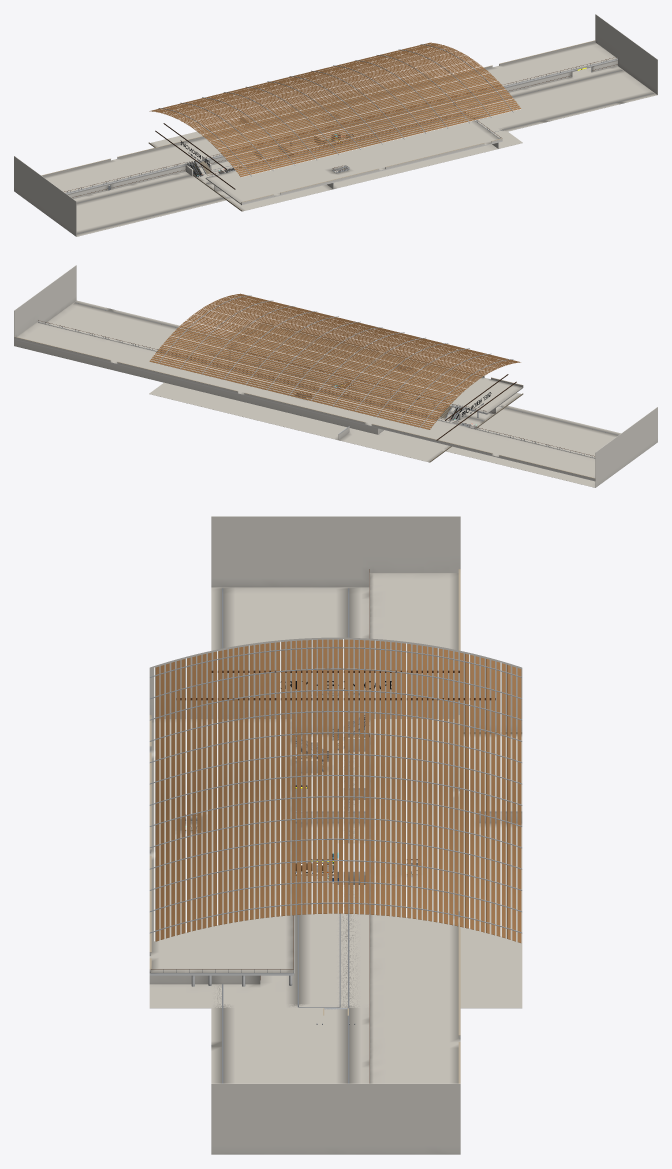
File: airint.glb
The picture shows the model from 3 angles, top to bottom: view 1: azimuth 30°, elevation 25°; view 2: azimuth 150°, elevation 25°; view 3: azimuth 270°, elevation 25°; orthographic projection. The views are drawn at different scales.
Parts seen in each view (by area): view 1: air_t2i, air_t1c, air_t1i; view 2: air_t2i, air_t1c, air_t1i; view 3: air_t1c, air_t2i, air_t1i.
Part boxes in pixels (box(x1,y1,x2,y2)): air_t2i: box(14, 14, 657, 236); air_t1c: box(149, 42, 521, 177); air_t1i: box(148, 75, 522, 211); air_t2i: box(14, 265, 657, 487); air_t1c: box(149, 293, 520, 429); air_t1i: box(149, 322, 523, 462); air_t1c: box(149, 639, 522, 942); air_t2i: box(211, 516, 460, 1154); air_t1i: box(149, 637, 522, 1024).
Size of the model in its own units: 320 by 26.05 by 88.8.
